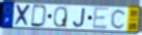C: (110, 9, 127, 31)
D: (30, 4, 48, 28)
E: (92, 6, 110, 31)
J: (72, 7, 86, 29)
Q: (53, 6, 68, 29)
X: (13, 4, 32, 28)
